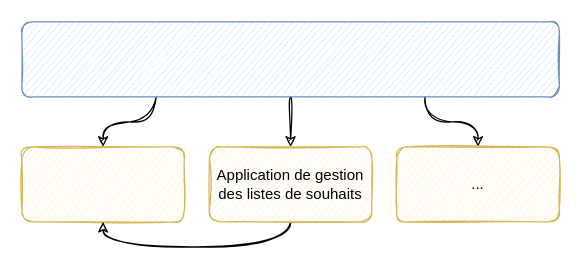
Image size: 581x270. Some labels were removed from this diagram. The centre of each missing label's shape, as x and y in pixels:
"Application de gestion des utilisateurs" belongs at pixel 102 184.
"Gwift" belongs at pixel 290 59.
